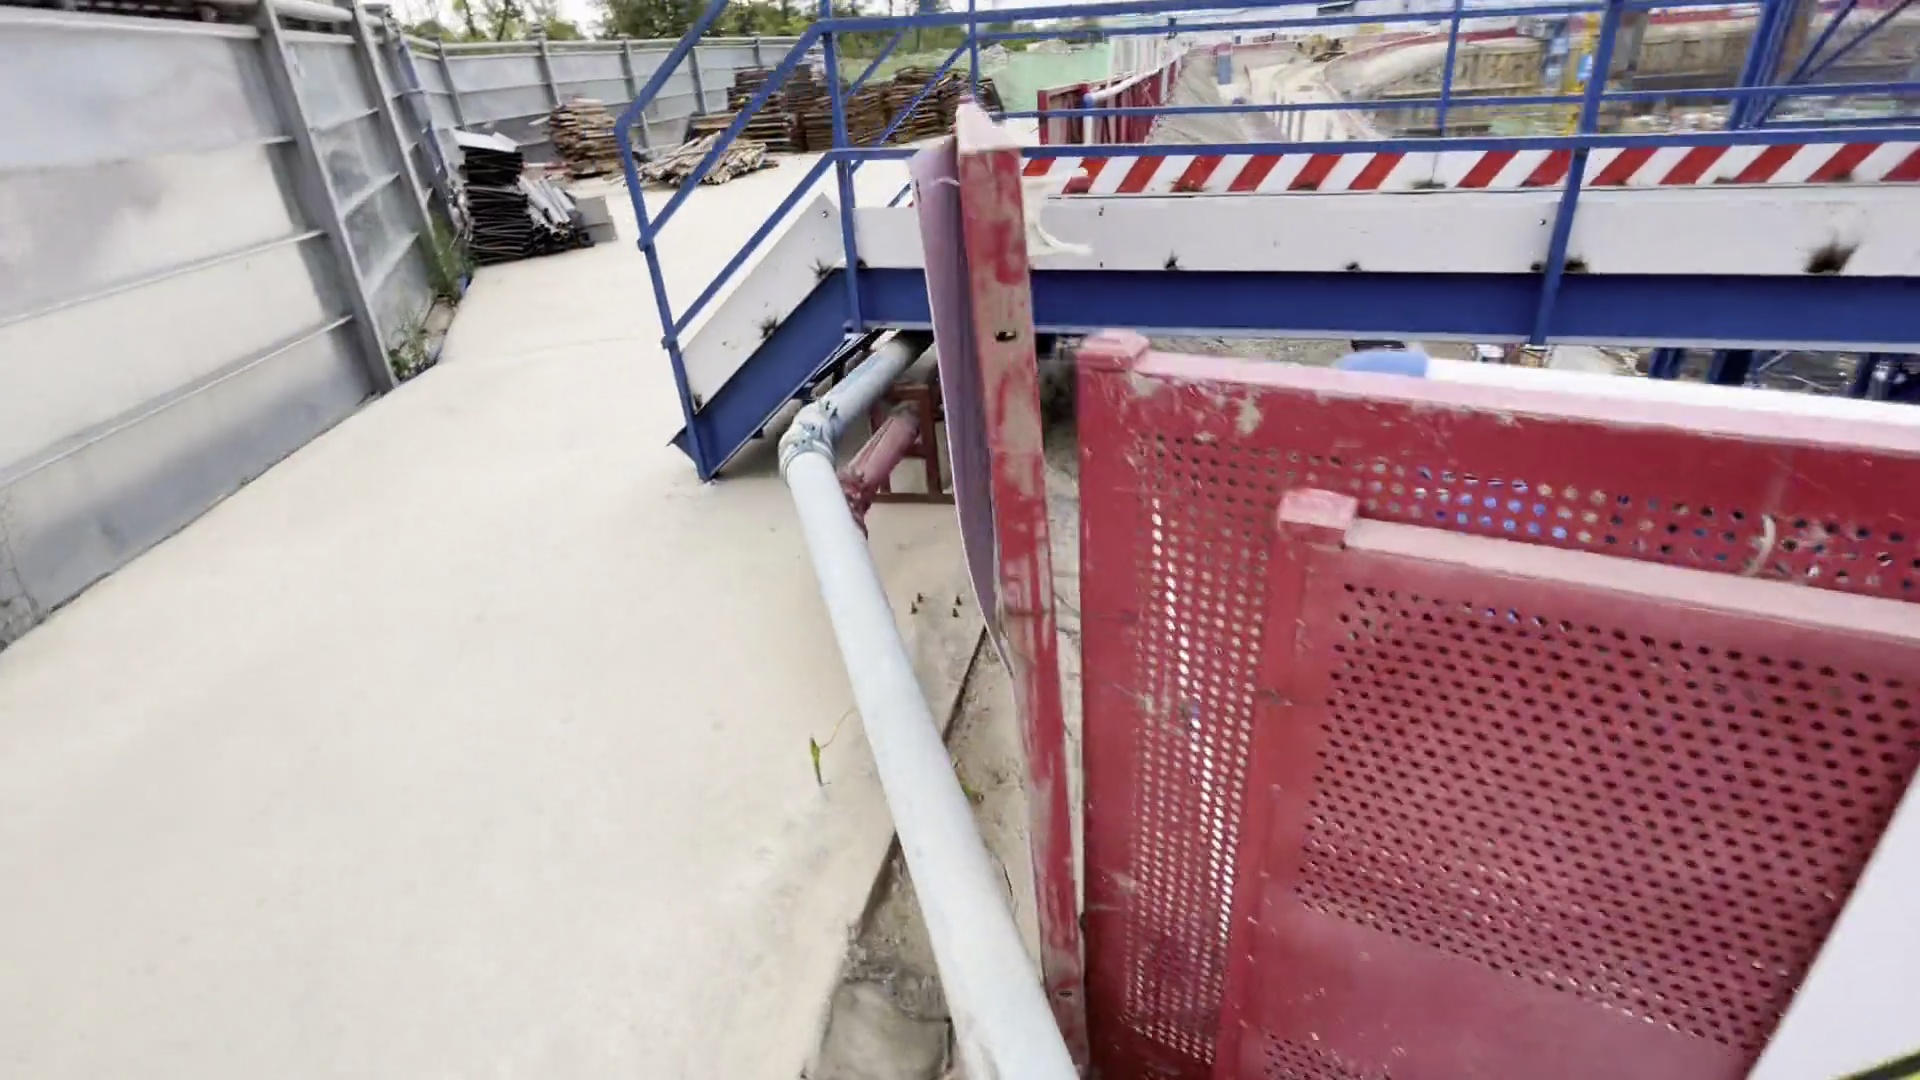fence: (992, 305, 1890, 1080)
wood: (616, 128, 782, 203)
